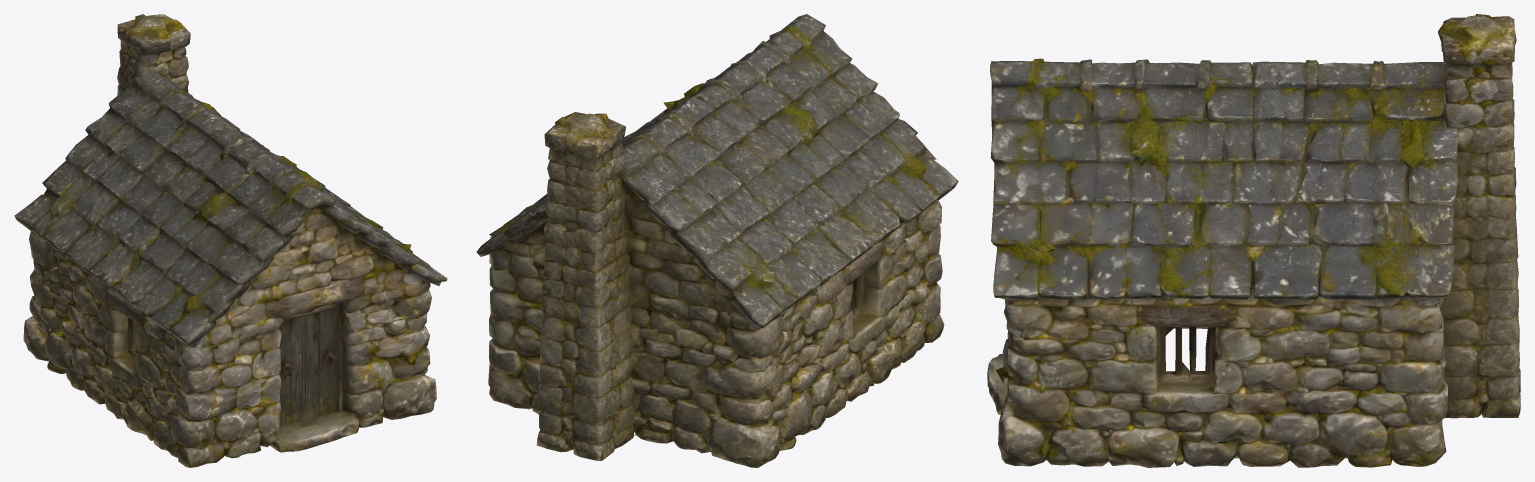
Rendered from stone_cottage_tripo.glb.
3 renders of one model, left to right at view 1: azimuth 30°, elevation 25°; view 2: azimuth 150°, elevation 25°; view 3: azimuth 270°, elevation 25°, orthographic. The views are drawn at different scales.
Visible parts, largest first — view 1: tripo_node_ef69f983-1ad7-43c3-b9fd-511992153875; view 2: tripo_node_ef69f983-1ad7-43c3-b9fd-511992153875; view 3: tripo_node_ef69f983-1ad7-43c3-b9fd-511992153875.
Boxes of the visible parts, <box> form: tripo_node_ef69f983-1ad7-43c3-b9fd-511992153875: <box>14,14,447,467</box>; tripo_node_ef69f983-1ad7-43c3-b9fd-511992153875: <box>476,14,958,467</box>; tripo_node_ef69f983-1ad7-43c3-b9fd-511992153875: <box>987,14,1520,467</box>.
Bounding box in the file's own units: 0.7651 × 0.7861 × 1.
Materials: 1 (1 with a texture image).
